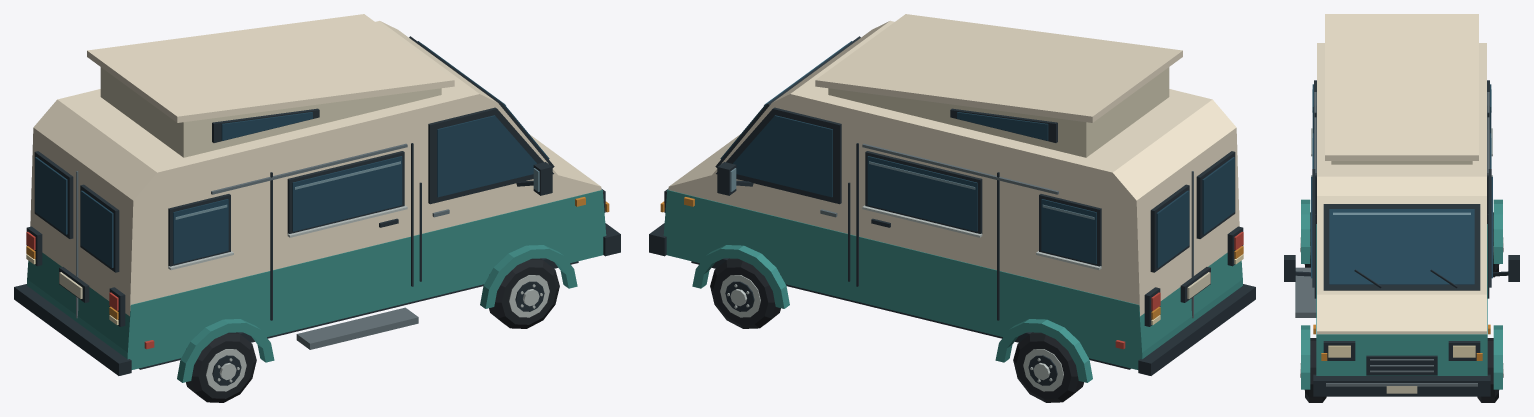
The model's file is 01_sprout_campervan.glb.
The picture shows the model from 3 angles, left to right: view 1: azimuth 30°, elevation 25°; view 2: azimuth 150°, elevation 25°; view 3: azimuth 270°, elevation 25°; orthographic projection. The views are drawn at different scales.
Parts seen in each view (by area): view 1: Ivory_van_body, Teal_lower_body, Ivory_pop_top_lid, Pop_top_canvas, Cab_side_window_1_glass, Lounge_glass_1_glass, Rear_sleeping_glass_1_glass, Rear_bumper, Side_step, Wheel_1.65_1_tire, Wheel_-1.64_1_tire, Cab_side_window_1_rubber_frame (+16 smaller); view 2: Ivory_van_body, Teal_lower_body, Ivory_pop_top_lid, Pop_top_canvas, Cab_side_window_-1_glass, Lounge_glass_-1_glass, Rear_sleeping_glass_-1_glass, Rear_bumper, Wheel_1.65_-1_tire, Wheel_-1.64_-1_tire, Cab_side_window_-1_rubber_frame, Wheel_arch_1.65_-1 (+15 smaller); view 3: Ivory_pop_top_lid, Ivory_van_body, Driving_windshield_glass, Teal_lower_body, Front_bumper, Driving_windshield_frame, Radiator_grille, Side_step, Wheel_arch_1.65_-1, Wheel_arch_1.65_1, Wheel_arch_-1.64_-1, Wheel_arch_-1.64_1 (+16 smaller).
Part boxes in pixels (left/top/right/bottom): Ivory_van_body: left=30, top=21, right=601, bottom=316; Teal_lower_body: left=27, top=189, right=606, bottom=369; Ivory_pop_top_lid: left=87, top=14, right=454, bottom=122; Pop_top_canvas: left=100, top=67, right=441, bottom=157; Cab_side_window_1_glass: left=437, top=115, right=536, bottom=197; Lounge_glass_1_glass: left=292, top=156, right=402, bottom=231; Rear_sleeping_glass_1_glass: left=173, top=199, right=228, bottom=263; Rear_bumper: left=14, top=284, right=131, bottom=375; Side_step: left=296, top=307, right=418, bottom=349; Wheel_1.65_1_tire: left=489, top=258, right=559, bottom=328; Wheel_-1.64_1_tire: left=186, top=332, right=256, bottom=402; Cab_side_window_1_rubber_frame: left=428, top=107, right=553, bottom=204; Ivory_van_body: left=668, top=21, right=1239, bottom=316; Teal_lower_body: left=663, top=189, right=1242, bottom=369; Ivory_pop_top_lid: left=815, top=14, right=1182, bottom=122; Pop_top_canvas: left=828, top=67, right=1169, bottom=157; Cab_side_window_-1_glass: left=733, top=115, right=832, bottom=197; Lounge_glass_-1_glass: left=867, top=156, right=977, bottom=231; Rear_sleeping_glass_-1_glass: left=1041, top=199, right=1096, bottom=263; Rear_bumper: left=1138, top=284, right=1255, bottom=375; Wheel_1.65_-1_tire: left=710, top=258, right=780, bottom=328; Wheel_-1.64_-1_tire: left=1013, top=332, right=1083, bottom=402; Cab_side_window_-1_rubber_frame: left=716, top=107, right=841, bottom=204; Wheel_arch_1.65_-1: left=692, top=245, right=789, bottom=308; Ivory_pop_top_lid: left=1325, top=14, right=1478, bottom=160; Ivory_van_body: left=1317, top=43, right=1486, bottom=334; Driving_windshield_glass: left=1329, top=209, right=1474, bottom=284; Teal_lower_body: left=1316, top=224, right=1487, bottom=375; Front_bumper: left=1313, top=374, right=1490, bottom=396; Driving_windshield_frame: left=1323, top=204, right=1480, bottom=290; Radiator_grille: left=1366, top=355, right=1437, bottom=375; Side_step: left=1295, top=267, right=1316, bottom=317; Wheel_arch_1.65_-1: left=1493, top=325, right=1502, bottom=389; Wheel_arch_1.65_1: left=1301, top=325, right=1310, bottom=389; Wheel_arch_-1.64_-1: left=1493, top=199, right=1502, bottom=263; Wheel_arch_-1.64_1: left=1301, top=199, right=1310, bottom=263.
Bounding box in the file's own units: 5.48 × 2.99 × 2.61.
